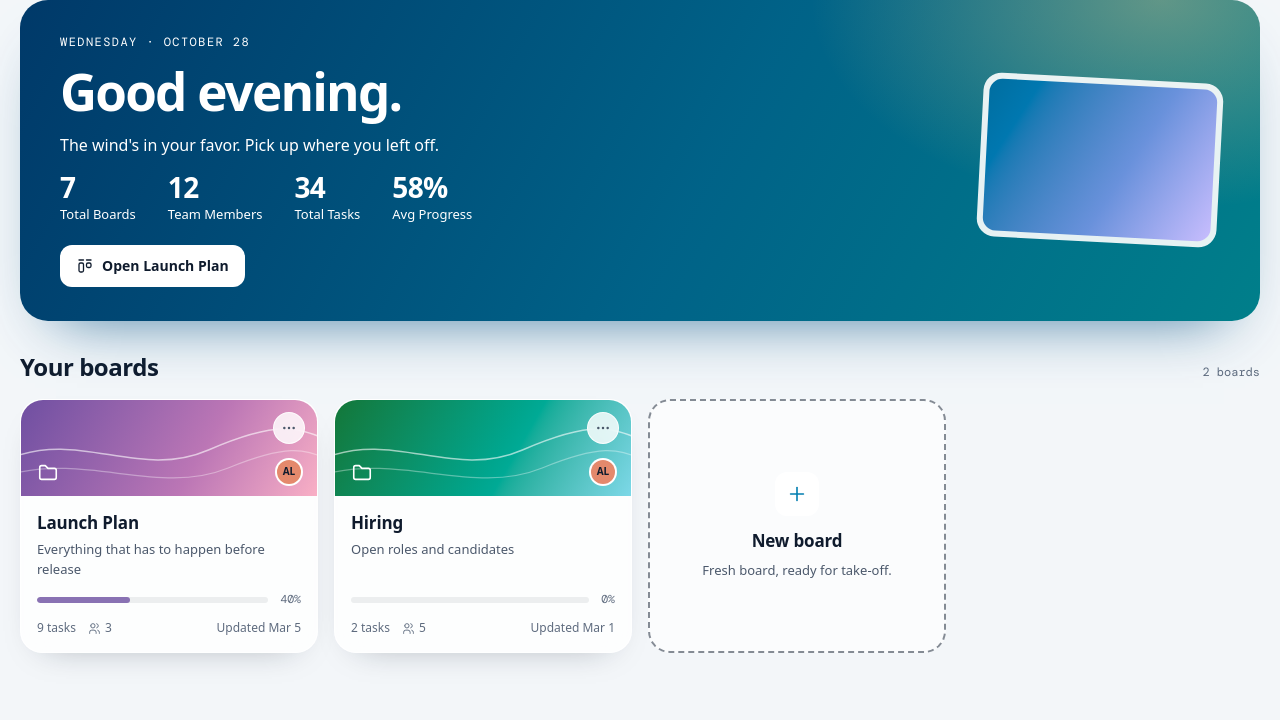
Test: BoardDashboard per board menu › closes when the click lands anywhere else
Expected: the link "Launch Plan" is shown, [37, 511, 139, 534]
Click the button named "Options for Launch Plan" at (289, 428), box [273, 412, 305, 444]
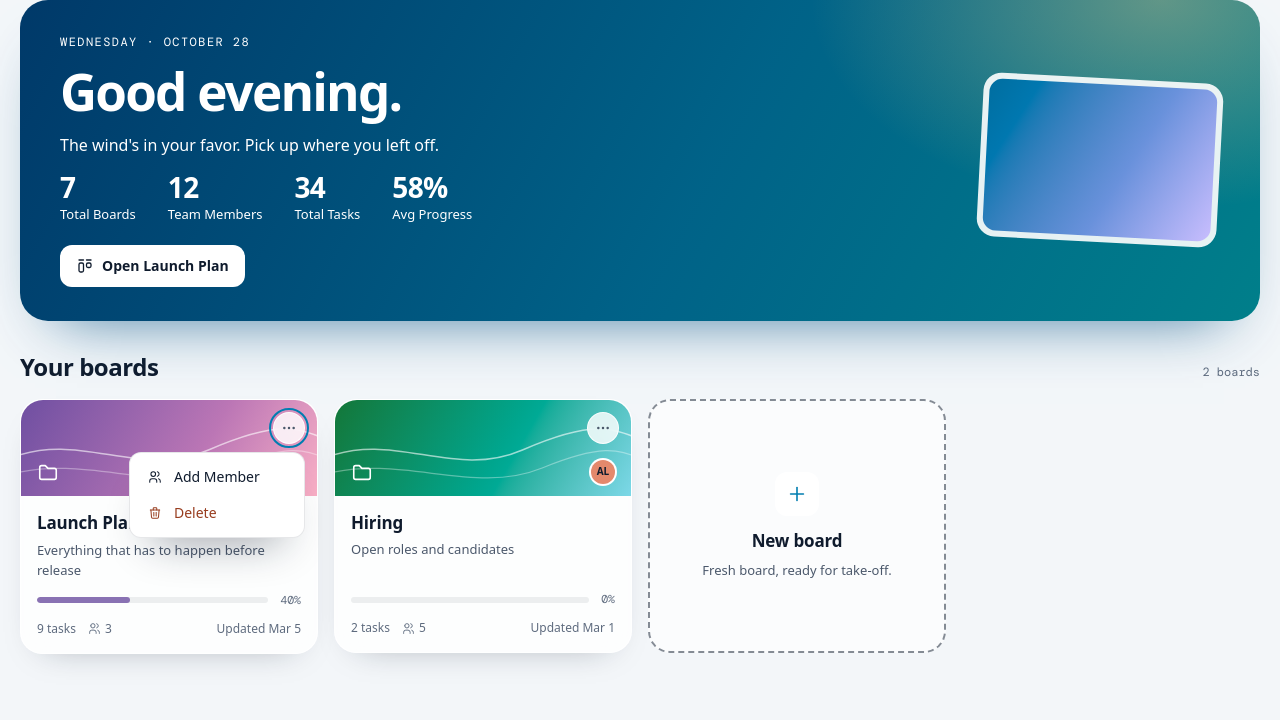
Click the heading "Your boards" at (89, 367), box [20, 351, 158, 383]
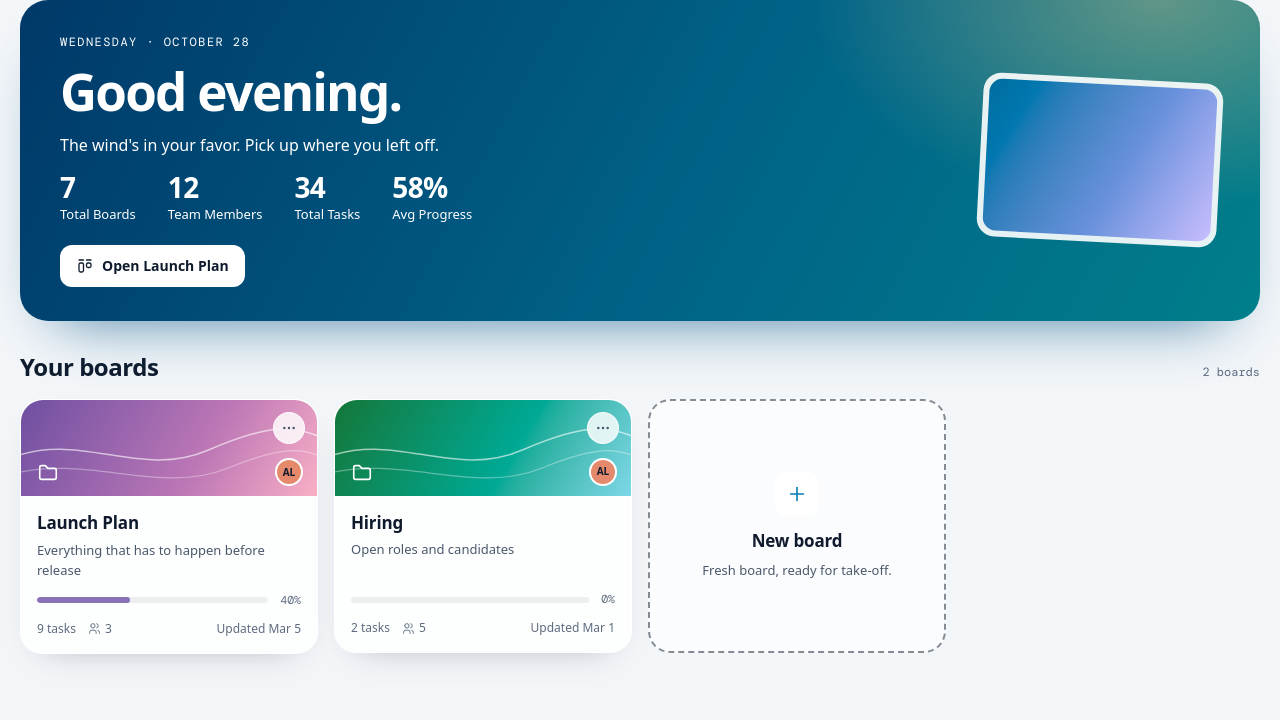
Expected: the button "Add Member" is gone
